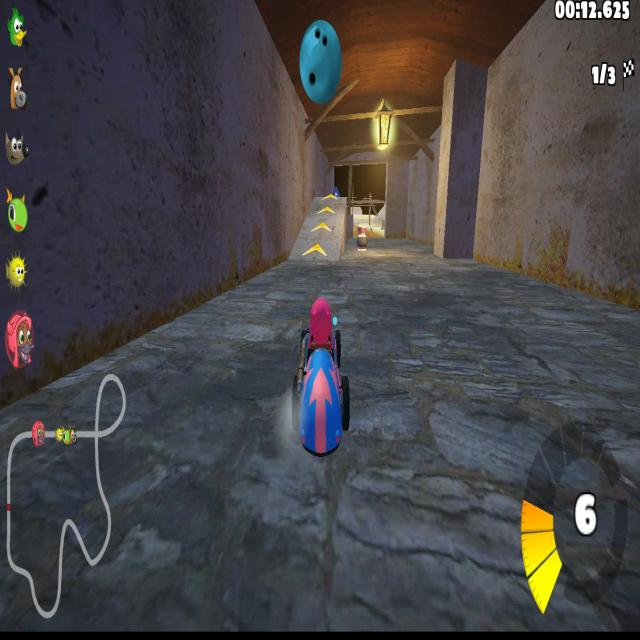player_kart: (271, 295, 363, 455)
power_up: (302, 241, 331, 264), (314, 202, 336, 218), (312, 219, 335, 233)
track: (372, 235, 444, 594)
